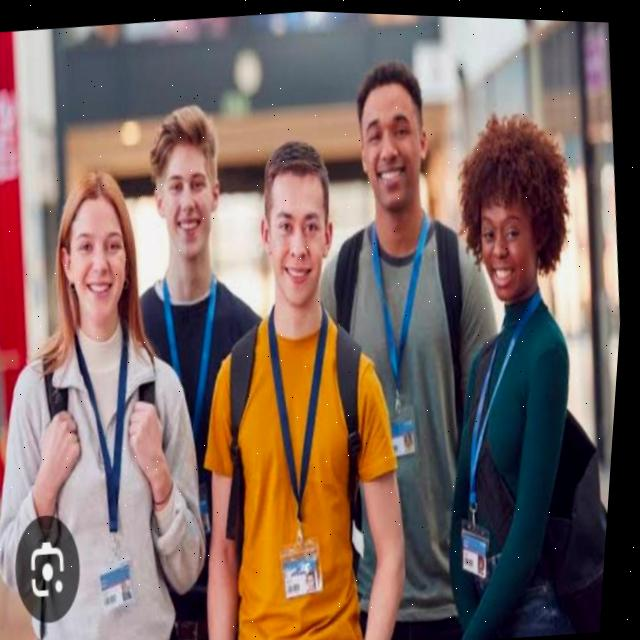id_card: (53, 315, 177, 617), (256, 304, 360, 602), (353, 216, 456, 465)
